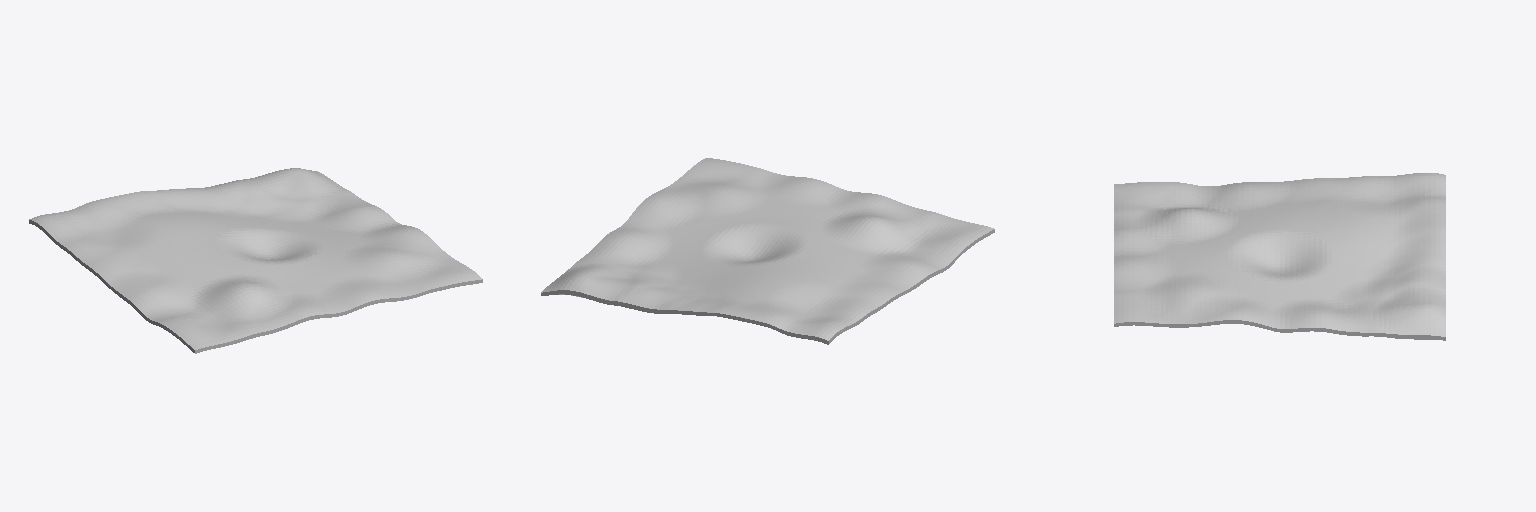
Rendered from map1.obj.
3 renders of one model, left to right at view 1: azimuth 30°, elevation 25°; view 2: azimuth 150°, elevation 25°; view 3: azimuth 270°, elevation 25°, orthographic.
Parts seen in each view (by area): view 1: Cube; view 2: Cube; view 3: Cube.
Boxes of the visible parts, x1,y1,x2,y2 form: Cube: [29, 168, 482, 353]; Cube: [541, 158, 994, 344]; Cube: [1114, 173, 1445, 340].
Bounding box in the file's own units: 2 × 0.2109 × 2.